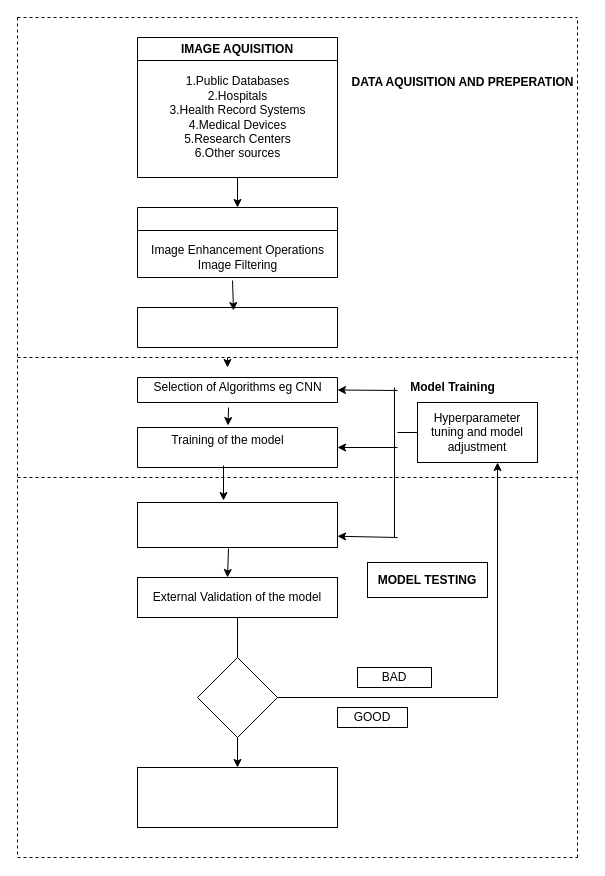
Image size: 605x876. Some labels were removed from this diagram. Here are the shapes that lost their labels. From the top down, the box of each, then its label:
(136, 206, 338, 278): IMAGE PROCESSING
(136, 306, 338, 348): Image Analysis and Feature Engineering
(136, 502, 338, 548): Testing of the model and Calculate performance metrices eg Accuracy
(136, 766, 338, 828): Usage of model in precesion Training /medicing for treatement
